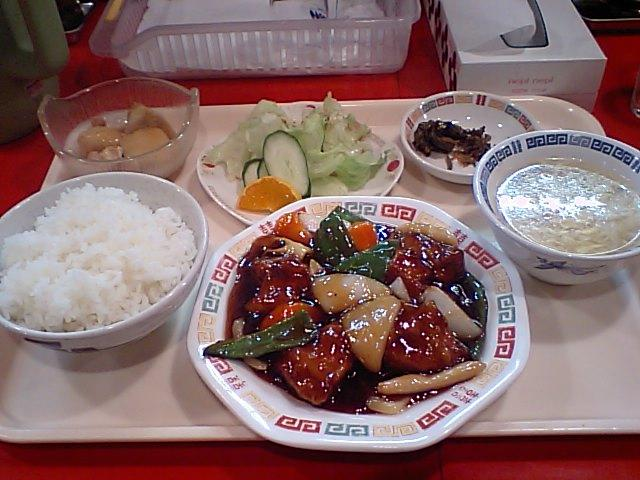plate: (0, 172, 207, 349)
rice: (0, 187, 196, 330)
